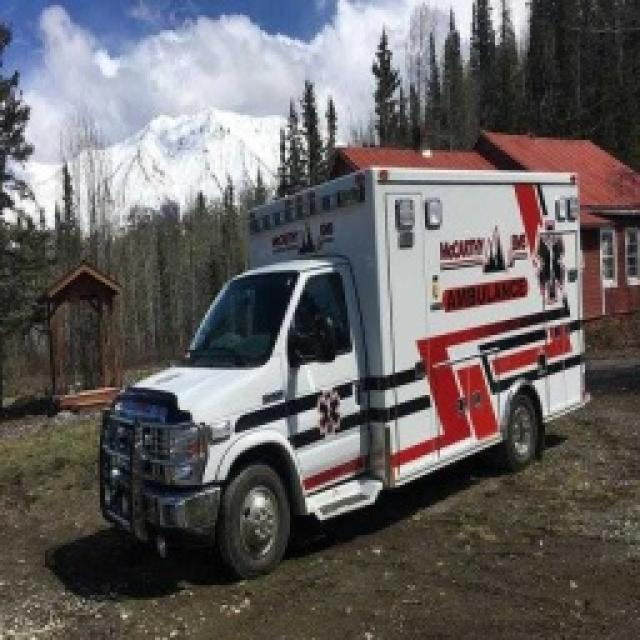emergency-vehicle: (93, 158, 583, 568)
